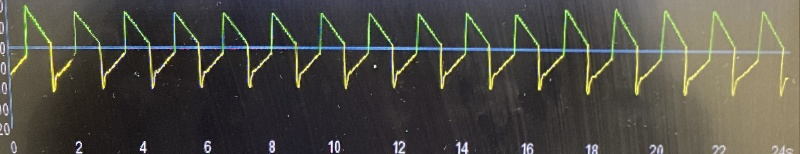peepi: (0, 1, 792, 95)
